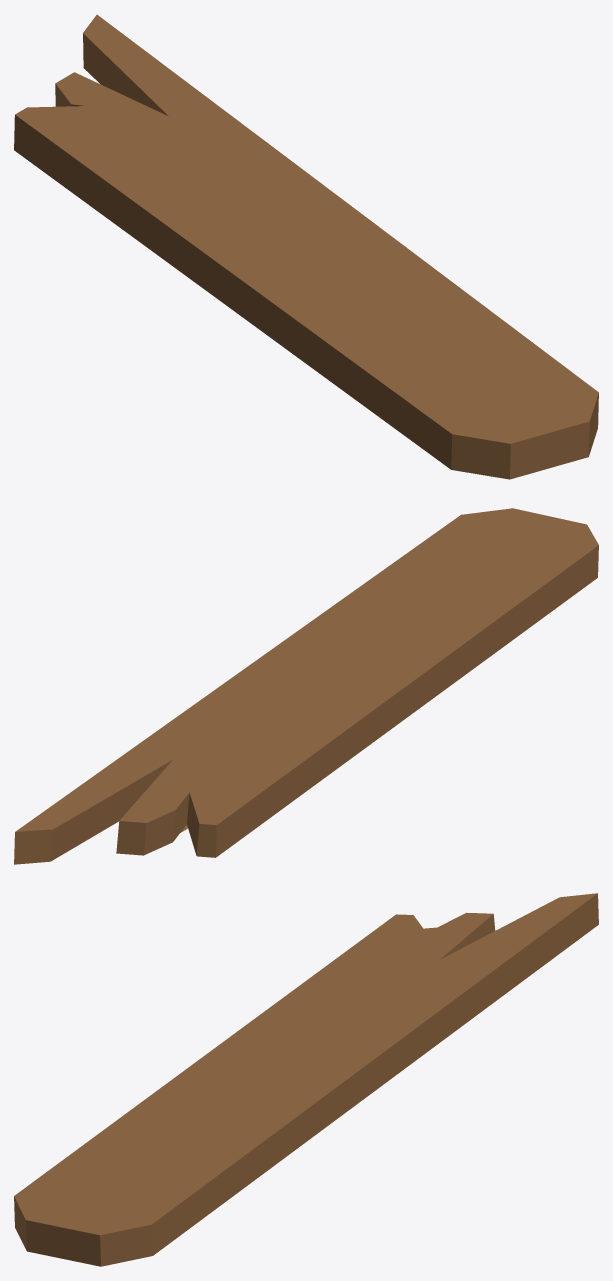
Rendered from plank_2.fbx.
The picture shows the model from 3 angles, top to bottom: view 1: azimuth 30°, elevation 25°; view 2: azimuth 150°, elevation 25°; view 3: azimuth 330°, elevation 25°; orthographic projection. The views are drawn at different scales.
Visible parts, largest first — view 1: Cube.009; view 2: Cube.009; view 3: Cube.009.
Boxes of the visible parts, <box> form: Cube.009: <box>14,14,598,479</box>; Cube.009: <box>14,508,598,864</box>; Cube.009: <box>14,893,598,1266</box>.
Size of the model in its own units: 0.301 by 0.0937 by 1.78.
